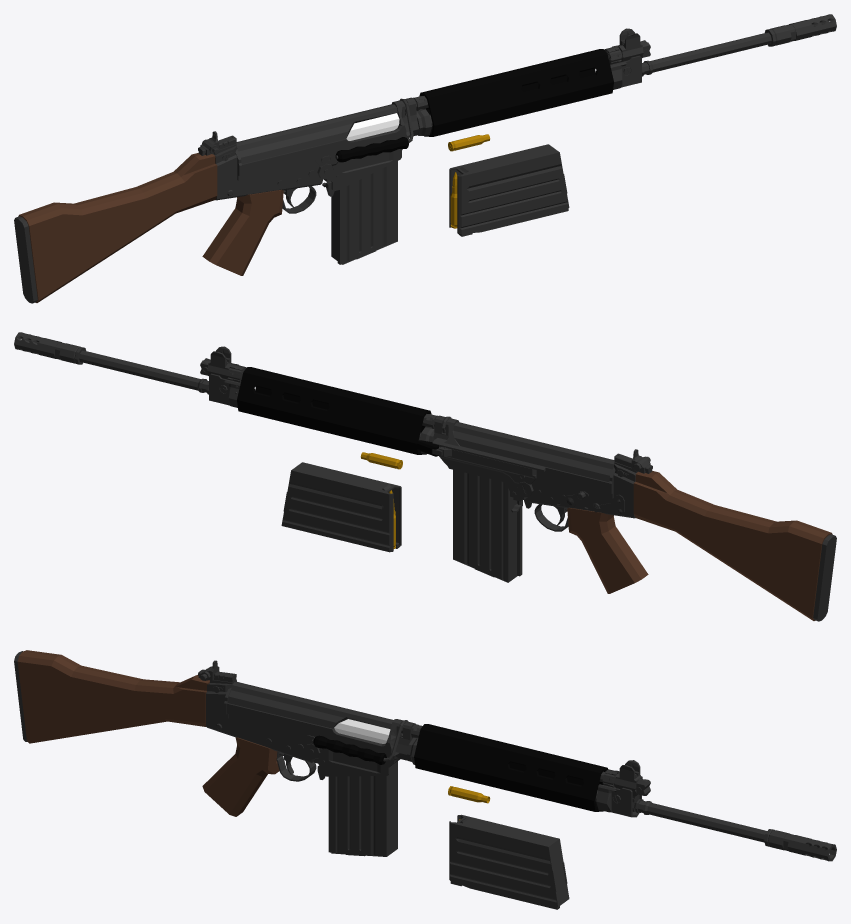
Rendered from fn fal.fbx.
The picture shows the model from 3 angles, top to bottom: view 1: azimuth 30°, elevation 25°; view 2: azimuth 150°, elevation 25°; view 3: azimuth 330°, elevation 25°; orthographic projection.
Visible parts, largest first — view 1: fn fal, 76251 fal mag 20rnd, 76251 fal mag empty 20rnd, fal muzzle, fal carry grip, fal bolt; view 2: fn fal, 76251 fal mag 20rnd, 76251 fal mag empty 20rnd, fal muzzle, fal reload handle; view 3: fn fal, 76251 fal mag 20rnd, 76251 fal mag empty 20rnd, fal muzzle, fal carry grip, fal bolt.
Boxes of the visible parts, box(x1,y1,x2,y2) form: fn fal: box(14, 28, 771, 303); 76251 fal mag 20rnd: box(449, 144, 569, 236); 76251 fal mag empty 20rnd: box(331, 161, 397, 264); fal muzzle: box(764, 14, 836, 46); fal carry grip: box(335, 98, 413, 162); fal bolt: box(346, 113, 399, 140); fn fal: box(79, 346, 836, 621); 76251 fal mag 20rnd: box(281, 462, 401, 552); 76251 fal mag empty 20rnd: box(453, 469, 522, 582); fal muzzle: box(14, 332, 86, 364); fal reload handle: box(435, 447, 536, 475); fn fal: box(14, 650, 767, 842); 76251 fal mag 20rnd: box(449, 814, 569, 909); 76251 fal mag empty 20rnd: box(328, 761, 397, 856); fal muzzle: box(764, 829, 836, 861); fal carry grip: box(313, 720, 408, 764); fal bolt: box(334, 719, 390, 743).
Bounding box in the file's own units: 1089 × 205 × 63.3.
